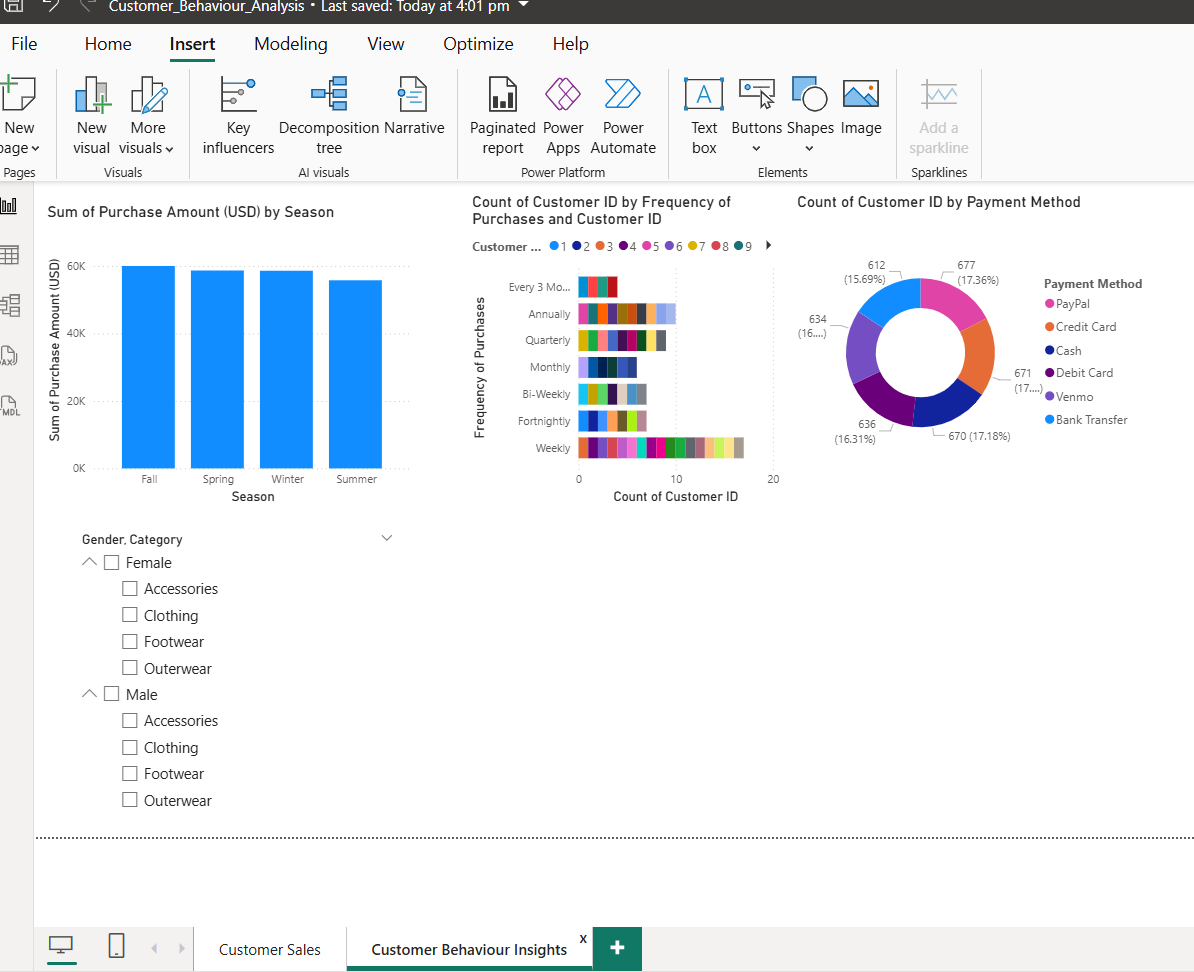

What the dashboard file says about the page in this screenshot:
{"tool":"powerbi","page":{"name":"Customer Behaviour Insights","canvas":[1280,720],"ordinal":1},"visuals":[{"type":"clusteredColumnChart","fields":{"Category":["shopping_trends_updated.Season"],"Y":["Sum(shopping_trends_updated.Purchase Amount (USD))"]},"box":[9.6,23.3,410.3,336.2],"z":0},{"type":"donutChart","fields":{"Category":["shopping_trends_updated.Payment Method"],"Y":["CountNonNull(shopping_trends_updated.Customer ID)"]},"box":[832.9,12.3,404.8,333.4],"z":1000},{"type":"barChart","fields":{"Category":["shopping_trends_updated.Frequency of Purchases"],"Series":["shopping_trends_updated.Customer ID"],"Y":["CountNonNull(shopping_trends_updated.Customer ID)"]},"box":[476.2,12.3,347.2,347.2],"z":2000},{"type":"slicer","fields":{"Values":["shopping_trends_updated.Gender","shopping_trends_updated.Category"]},"box":[39.8,380.1,366.4,340.3],"z":3000}]}

Visuals, with their boxes on the page's 1280x720 design canvas (x1, y1, x2, y2). These are canvas units, not pixel positions in the 1194x972 screenshot, which may show the page scaled, cropped or inside an application window:
clusteredColumnChart - shopping_trends_updated.Season x Sum(shopping_trends_updated.Purchase Amount (USD)): <region>10, 23, 420, 360</region>
donutChart - shopping_trends_updated.Payment Method x CountNonNull(shopping_trends_updated.Customer ID): <region>833, 12, 1238, 346</region>
barChart - shopping_trends_updated.Frequency of Purchases x shopping_trends_updated.Customer ID: <region>476, 12, 823, 360</region>
slicer - shopping_trends_updated.Gender x shopping_trends_updated.Category: <region>40, 380, 406, 720</region>
